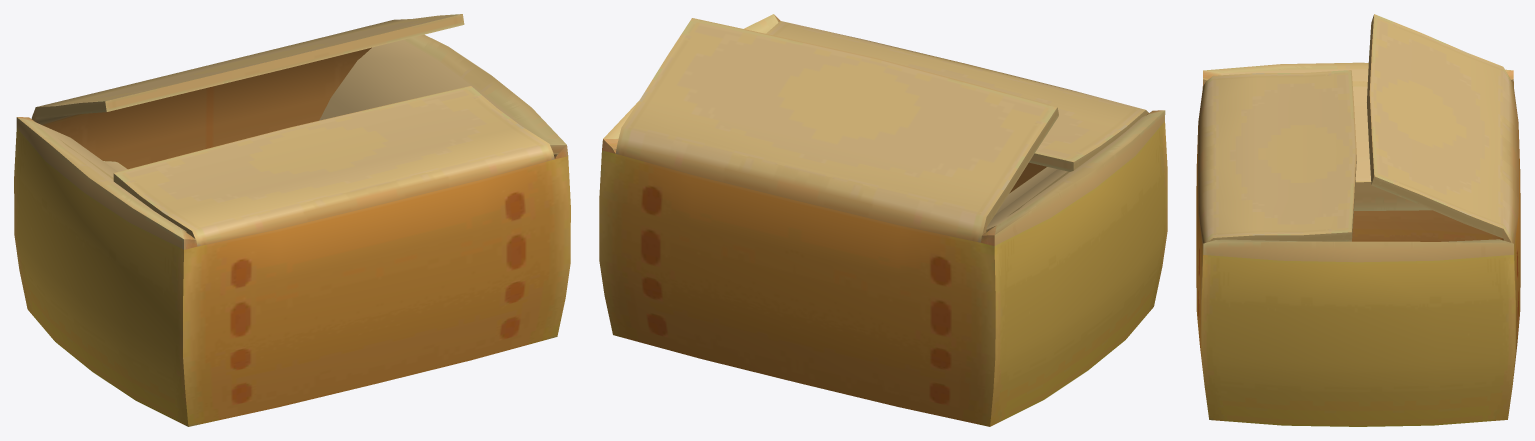
File: carton_boxes1.fbx
3 views of the same model, side by side, from view 1: azimuth 30°, elevation 25°; view 2: azimuth 150°, elevation 25°; view 3: azimuth 270°, elevation 25° (orthographic). The views are drawn at different scales.
Visible parts, largest first — view 1: carton_boxes1; view 2: carton_boxes1; view 3: carton_boxes1.
Boxes of the visible parts, box(x1,y1,x2,y2) form: carton_boxes1: box(14, 14, 570, 426); carton_boxes1: box(599, 14, 1167, 426); carton_boxes1: box(1196, 14, 1520, 426).
Size of the model in its own units: 136 by 80.69 by 97.69.
1 material, 1 textured.
